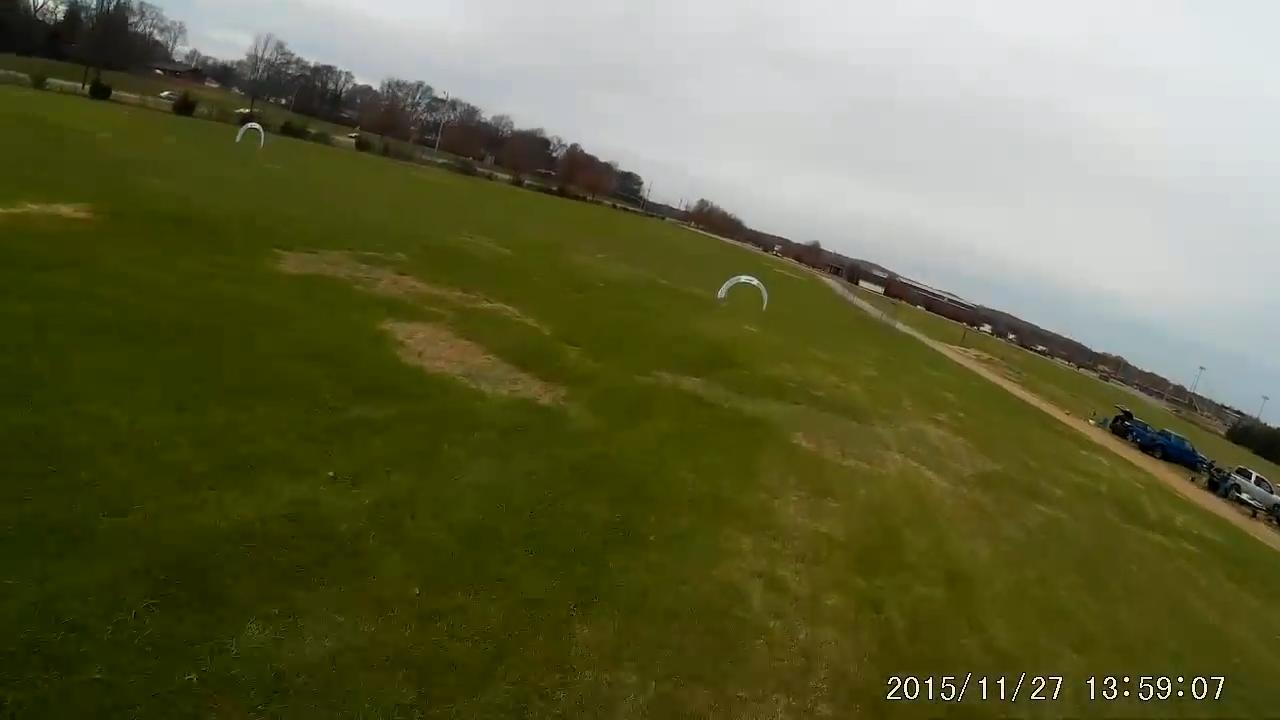gate: (717, 273, 768, 313), (232, 121, 267, 153)
